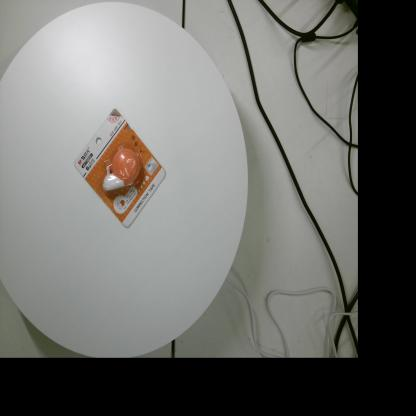Stationery: (74, 109, 166, 228)
